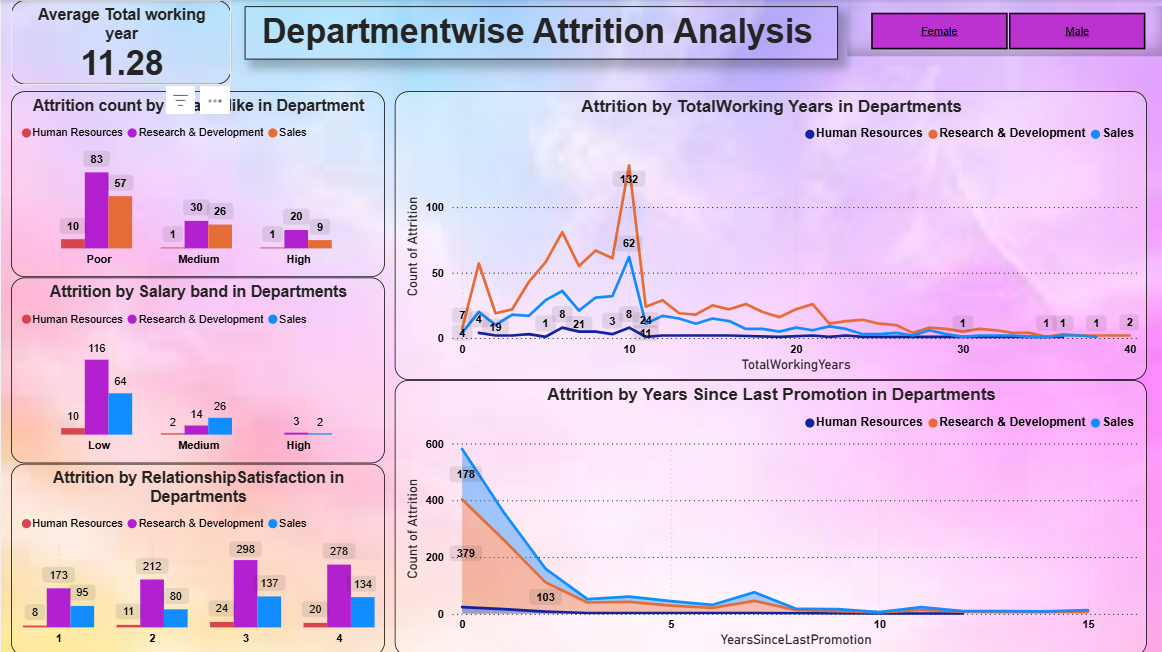

What the dashboard file says about the page in this screenshot:
{"tool":"powerbi","page":{"name":"Dashboard 2","canvas":[1280,720],"ordinal":1},"visuals":[{"type":"clusteredColumnChart","title":" Attrition count by Salary Hike in Department","fields":{"Category":["Attrition.SalaryHikeView"],"Y":["CountNonNull(Attrition.Attrition)"],"Series":["Attrition.Department"]},"box":[11.4,100,410,204.3],"z":0},{"type":"lineClusteredColumnComboChart","title":"Attrition by Salary band in Departments","fields":{"Category":["Attrition.Salary band"],"Y":["CountNonNull(Attrition.Attrition)"],"Series":["Attrition.Department"]},"box":[11.4,304.3,410,204.3],"z":1000},{"type":"lineChart","title":"Attrition by TotalWorking Years in Departments","fields":{"Category":["Attrition.TotalWorkingYears"],"Y":["CountNonNull(Attrition.Attrition)"],"Series":["Attrition.Department"]},"box":[432.9,100,825.7,317.1],"z":2000},{"type":"card","title":"Average Total working year","fields":{"Values":["Avg(Attrition.TotalWorkingYears)"]},"box":[11.4,0,241.4,92.9],"z":3000},{"type":"stackedAreaChart","title":" Attrition by Years Since Last Promotion in Departments","fields":{"Category":["Attrition.YearsSinceLastPromotion"],"Y":["CountNonNull(Attrition.Attrition)"],"Series":["Attrition.Department"]},"box":[432.9,417.1,825.7,302.9],"z":4000},{"type":"clusteredColumnChart","title":" Attrition by RelationshipSatisfaction in Departments","fields":{"Category":["Attrition.RelationshipSatisfaction"],"Y":["CountNonNull(Attrition.Attrition)"],"Series":["Attrition.Department"]},"box":[11.4,508.6,410,211.4],"z":5000},{"type":"slicer","fields":{"Values":["Attrition.Gender"]},"box":[928.6,7.1,351.4,54.3],"z":6000},{"type":"textbox","box":[267.1,7.1,651.4,58.6],"z":7000}]}

Visuals, with their boxes in screenshot pixels (x1, y1, x2, y2), scaled from the page's 1280x720 canvas onto the 1162x652 screenshot:
" Attrition count by Salary Hike in Department" clusteredColumnChart: bbox=(10, 91, 383, 276)
"Attrition by Salary band in Departments" lineClusteredColumnComboChart: bbox=(10, 276, 383, 461)
"Attrition by TotalWorking Years in Departments" lineChart: bbox=(393, 91, 1143, 378)
"Average Total working year" card: bbox=(10, 0, 229, 84)
" Attrition by Years Since Last Promotion in Departments" stackedAreaChart: bbox=(393, 378, 1143, 651)
" Attrition by RelationshipSatisfaction in Departments" clusteredColumnChart: bbox=(10, 461, 383, 651)
slicer - Attrition.Gender: bbox=(843, 6, 1161, 56)
textbox: bbox=(242, 6, 834, 59)
